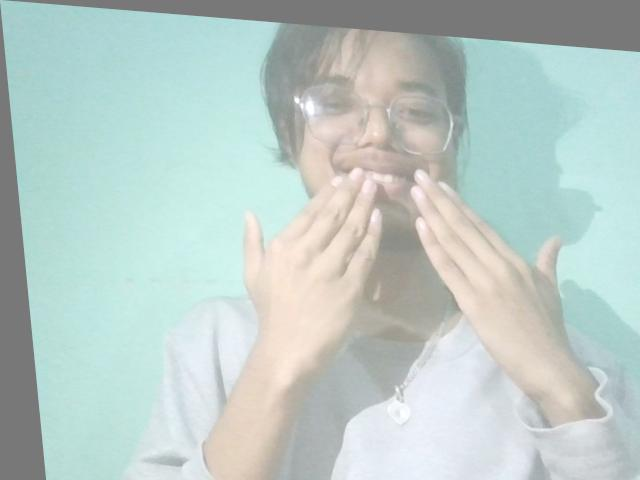Thank You: (184, 98, 610, 472)
